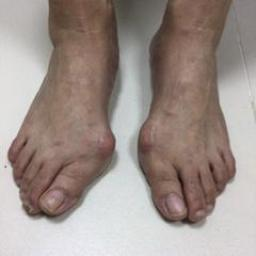Dorsal View -Both Feet-: (5, 1, 240, 230)
